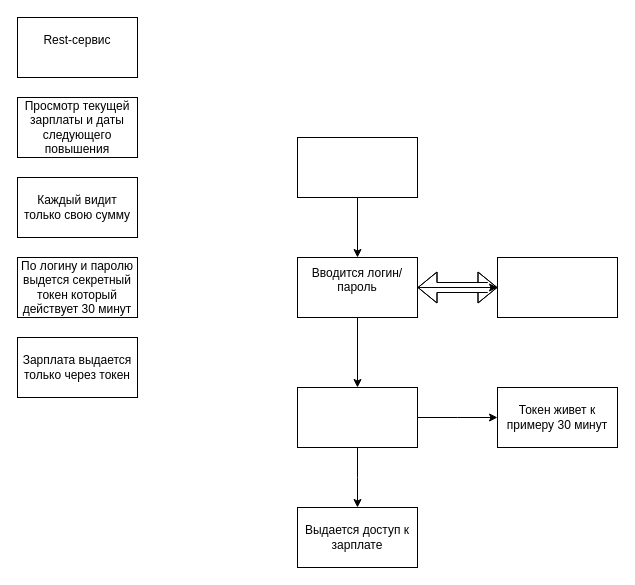
The diagram is 635 pixels wide and 585 high, and some of its shapes have lost their labels. Each missing label, with the centre of its shape:
"Bd" belongs at point 557,287.
"Выдается токен" belongs at point 357,417.
"Написать FastAPI" belongs at point 357,167.
